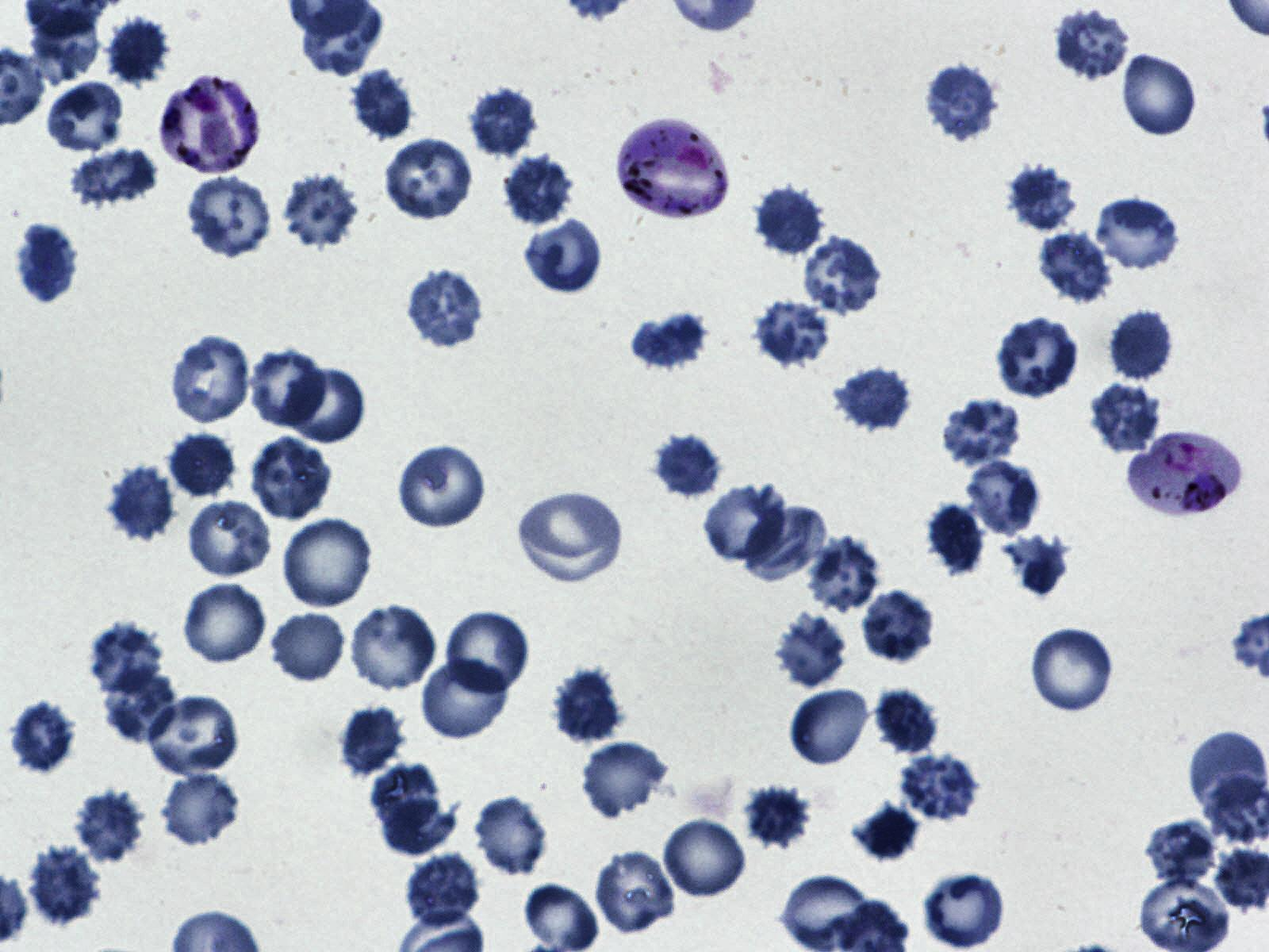Infected: (610, 113, 732, 221), (1130, 429, 1242, 520), (162, 74, 262, 173)
Uninfected: (515, 487, 624, 580), (280, 513, 375, 610), (348, 600, 440, 694), (418, 655, 511, 743), (395, 443, 489, 529), (182, 174, 275, 260), (381, 136, 476, 220), (144, 693, 240, 776), (1029, 626, 1116, 715), (443, 611, 532, 697), (248, 436, 335, 523), (594, 847, 678, 937), (171, 333, 253, 425), (995, 317, 1083, 401), (742, 501, 833, 582), (1186, 725, 1267, 816), (703, 480, 788, 566), (798, 235, 885, 318), (579, 740, 673, 816), (663, 817, 749, 900), (1119, 52, 1199, 140), (1095, 192, 1180, 273), (781, 873, 867, 952), (283, 366, 368, 444), (187, 498, 273, 575), (926, 867, 1006, 949), (405, 268, 486, 348), (1052, 3, 1133, 83), (962, 454, 1041, 536), (472, 795, 550, 878), (251, 347, 328, 430), (939, 395, 1026, 468), (791, 690, 872, 768), (162, 769, 242, 846), (895, 752, 982, 822), (526, 218, 604, 295), (924, 63, 999, 143), (1032, 231, 1113, 305), (180, 586, 263, 658), (1003, 158, 1079, 236), (29, 846, 102, 927), (270, 609, 347, 685), (283, 175, 362, 249), (831, 363, 912, 435), (754, 295, 835, 367), (405, 855, 482, 930), (859, 591, 937, 665), (25, 7, 99, 85), (102, 666, 176, 743), (11, 221, 78, 305), (753, 182, 826, 259), (551, 668, 624, 745), (1144, 818, 1223, 889), (87, 623, 167, 692), (68, 147, 157, 208), (7, 700, 80, 774), (807, 539, 880, 612), (776, 614, 846, 689), (465, 83, 536, 156), (496, 155, 570, 225), (104, 15, 174, 89), (1088, 384, 1163, 452), (521, 884, 596, 952), (48, 83, 121, 152), (654, 432, 728, 500), (112, 463, 177, 540), (1110, 309, 1178, 382), (370, 762, 439, 832), (170, 429, 236, 501), (631, 312, 710, 369), (350, 67, 413, 138), (75, 795, 141, 862), (744, 788, 814, 850), (342, 708, 406, 774), (1003, 536, 1072, 597), (928, 503, 987, 574), (876, 685, 937, 750), (380, 798, 451, 853), (853, 805, 921, 858)
